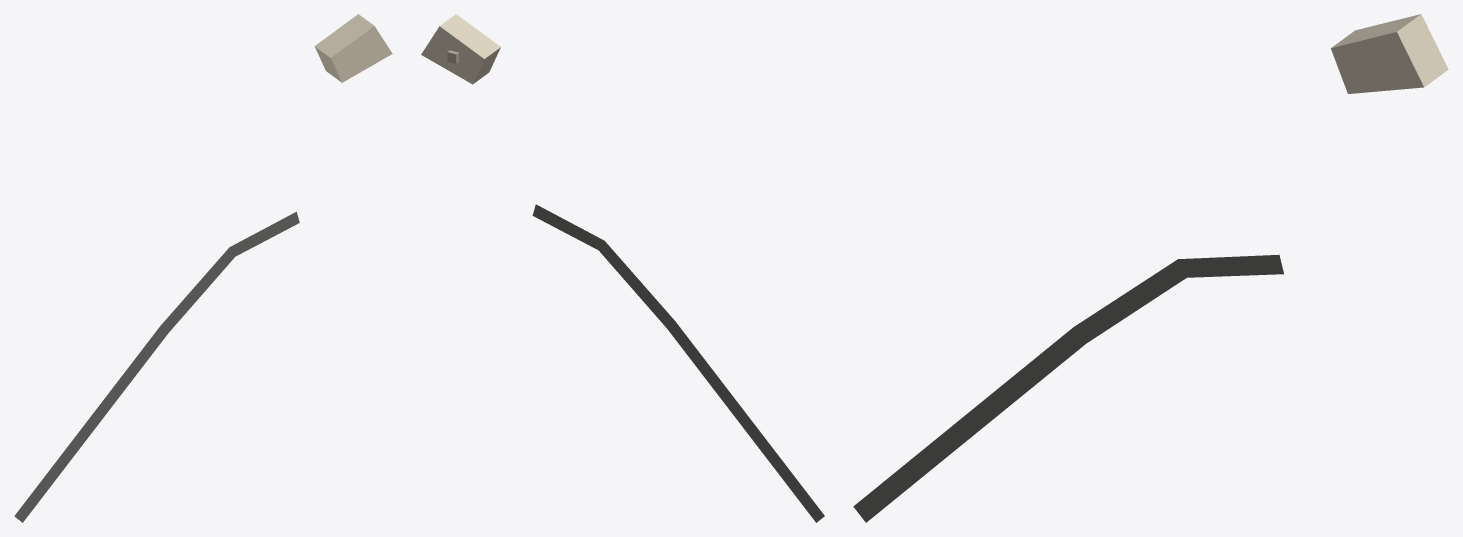
File: historic-palestine-15_33_3574_3270.glb
3 renders of one model, left to right at view 1: azimuth 30°, elevation 25°; view 2: azimuth 150°, elevation 25°; view 3: azimuth 330°, elevation 25°, orthographic. The views are drawn at different scales.
Visible parts, largest first — view 1: Road, Building_; view 2: Road, Building_; view 3: Road, Building_.
Boxes of the visible parts, x1,y1,x2,y2 form: Road: (14,212,299,522); Building_: (314,14,392,82); Road: (532,204,824,522); Building_: (421,14,500,84); Road: (853,254,1283,522); Building_: (1331,14,1448,93).
Bounding box in the file's own units: 101 × 105 × 8.7.
